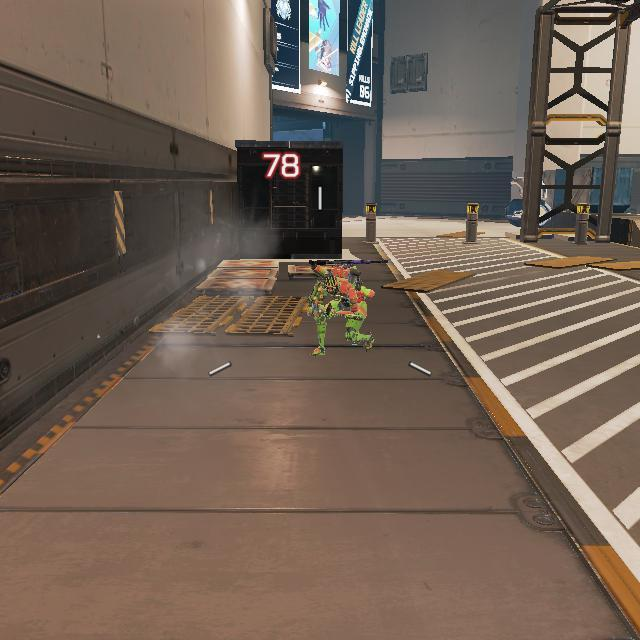avatar: (305, 257, 378, 359)
